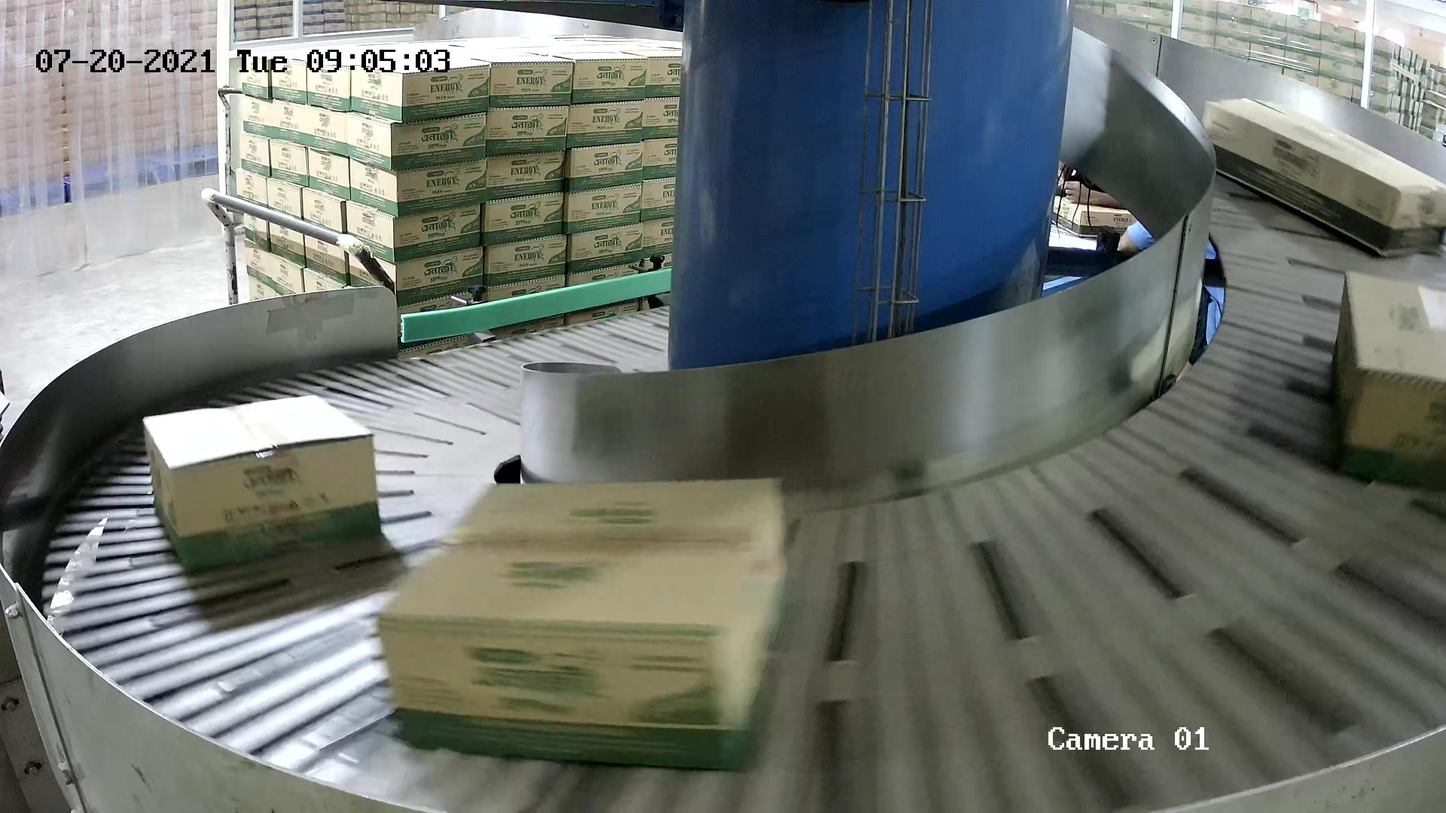Box: (375, 481, 788, 771), (142, 394, 382, 571), (1201, 96, 1446, 257), (1330, 267, 1446, 488)
